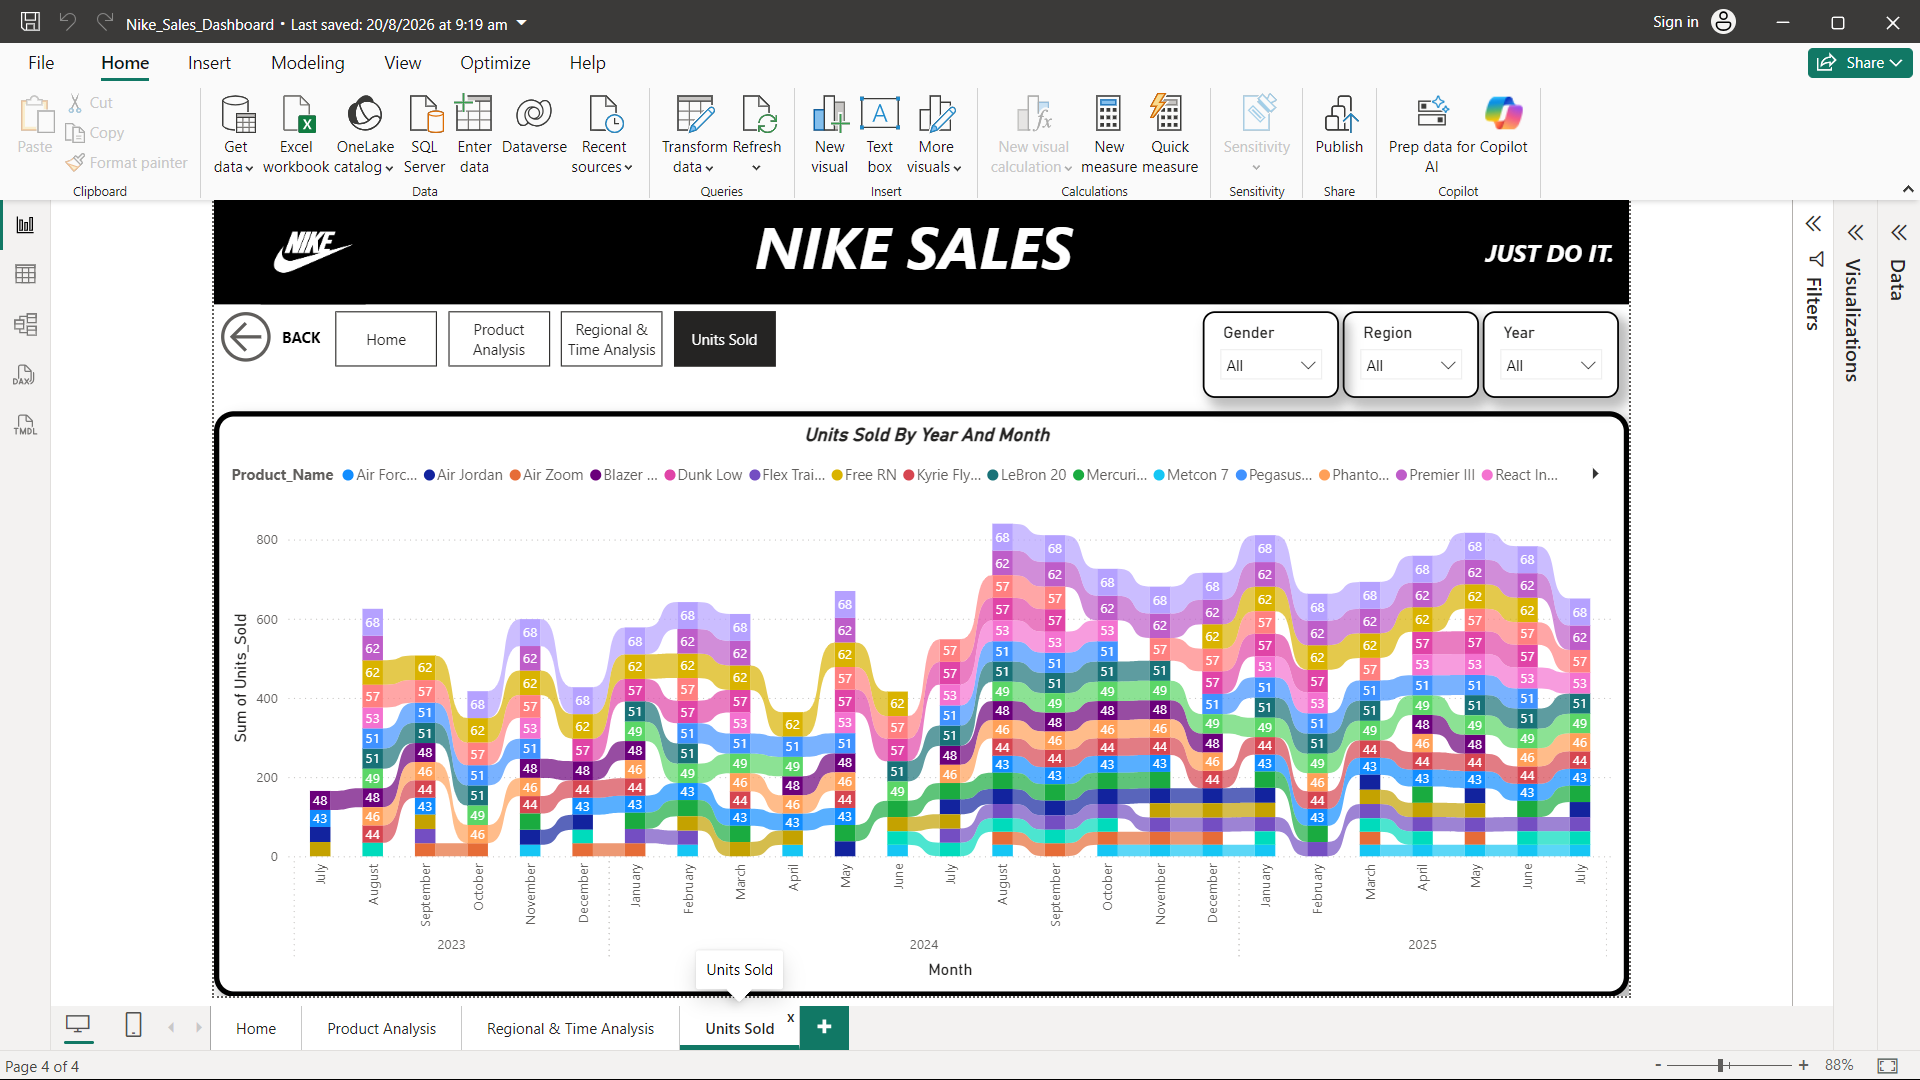

The page's visual inventory and layout, read from the dashboard file:
{"tool":"powerbi","page":{"name":"Units Sold","canvas":[1280,720],"ordinal":3},"visuals":[{"type":"textbox","box":[0,0,1280.2,94.2],"z":0},{"type":"image","box":[0,0,199,94.7],"z":1000},{"type":"textbox","box":[1082.7,28.8,188,38.4],"z":2000},{"type":"ribbonChart","title":"Units Sold By Year And Month","fields":{"Y":["Sum(Fact_Sales.Units_Sold)"],"Category":["Dim_Date.Date.Variation.Date Hierarchy.Year","Dim_Date.Date.Variation.Date Hierarchy.Month"],"Series":["Dim_Product.Product_Name"]},"box":[0,190.7,1280.3,529.7],"z":3000},{"type":"actionButton","box":[0,94.7,100.2,57.6],"z":4000},{"type":"slicer","title":"YEAR","fields":{"Values":["Dim_Region.Region"]},"box":[1020.9,100.2,123.5,78.2],"z":5000},{"type":"slicer","title":"YEAR","fields":{"Values":["Dim_Date.Year"]},"box":[1147.2,100.2,123.5,78.2],"z":6000},{"type":"slicer","title":"YEAR","fields":{"Values":["Dim_Gender.Gender_Category"]},"box":[894.7,100.2,123.5,78.2],"z":7000},{"type":"pageNavigator","box":[109.9,100.2,400.7,50.1],"z":8000}]}

Visuals, with their boxes on the page's 1280x720 design canvas (x1, y1, x2, y2). These are canvas units, not pixel positions in the 1920x1080 screenshot, which may show the page scaled, cropped or inside an application window:
textbox: {"left": 0, "top": 0, "right": 1280, "bottom": 94}
image: {"left": 0, "top": 0, "right": 199, "bottom": 95}
textbox: {"left": 1083, "top": 29, "right": 1271, "bottom": 67}
"Units Sold By Year And Month" ribbonChart: {"left": 0, "top": 191, "right": 1280, "bottom": 720}
actionButton: {"left": 0, "top": 95, "right": 100, "bottom": 152}
"YEAR" slicer: {"left": 1021, "top": 100, "right": 1144, "bottom": 178}
"YEAR" slicer: {"left": 1147, "top": 100, "right": 1271, "bottom": 178}
"YEAR" slicer: {"left": 895, "top": 100, "right": 1018, "bottom": 178}
pageNavigator: {"left": 110, "top": 100, "right": 511, "bottom": 150}
